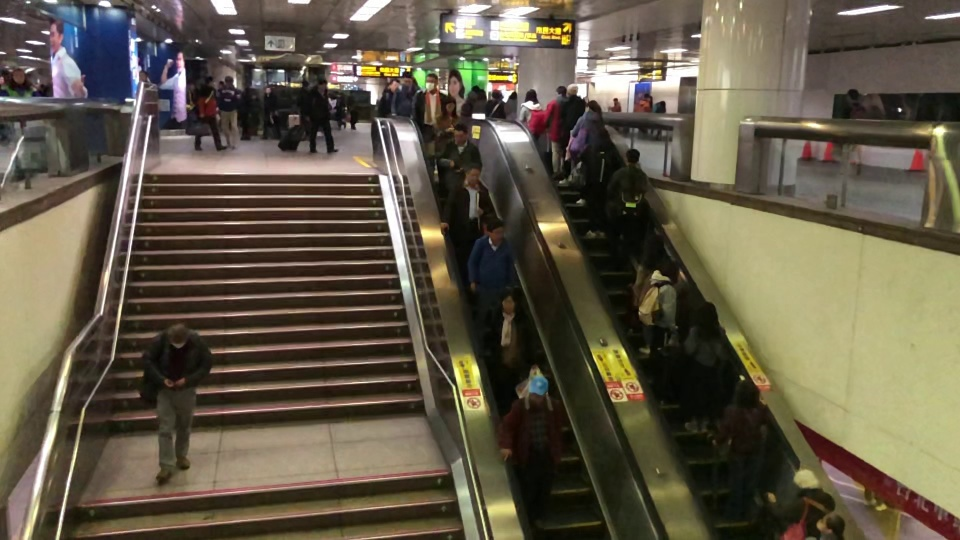person_head: (792, 468, 821, 491), (734, 379, 759, 405), (167, 322, 189, 348), (696, 301, 717, 324), (463, 161, 482, 185), (527, 379, 546, 400), (486, 218, 504, 240), (501, 287, 516, 313), (643, 234, 663, 253), (663, 257, 679, 277), (453, 122, 467, 143), (624, 148, 640, 166), (424, 73, 438, 89), (846, 88, 860, 104), (443, 96, 456, 113), (592, 132, 605, 148), (12, 67, 24, 83), (585, 100, 600, 111), (525, 88, 538, 100), (402, 72, 413, 85), (555, 85, 566, 97), (566, 82, 577, 94), (317, 77, 327, 90), (203, 74, 213, 85), (466, 90, 476, 101), (391, 79, 400, 91), (477, 89, 486, 100), (491, 90, 500, 100), (225, 75, 232, 84), (510, 90, 516, 99), (266, 87, 272, 94), (659, 100, 665, 106), (613, 97, 618, 104), (644, 94, 648, 101)
person_vbox: (141, 321, 213, 485), (499, 378, 563, 531), (711, 379, 766, 518), (467, 219, 514, 353), (683, 302, 725, 436), (491, 287, 540, 396), (606, 148, 649, 271), (638, 256, 679, 380), (437, 122, 484, 219), (767, 468, 829, 540), (439, 161, 491, 244), (632, 234, 664, 354), (579, 132, 613, 237), (570, 100, 604, 204), (554, 82, 585, 181), (432, 96, 460, 196), (194, 74, 227, 151), (307, 77, 340, 153), (839, 88, 867, 176), (412, 73, 449, 138), (543, 84, 566, 181), (216, 75, 243, 151), (519, 88, 546, 136), (0, 68, 40, 98), (259, 86, 280, 140), (391, 72, 413, 115), (378, 78, 399, 115), (634, 93, 650, 139), (652, 100, 666, 139), (486, 89, 505, 117), (460, 90, 477, 114), (504, 90, 518, 115), (473, 88, 486, 114), (607, 96, 620, 112)
